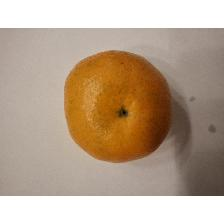Mandarine: (60, 46, 182, 166)
